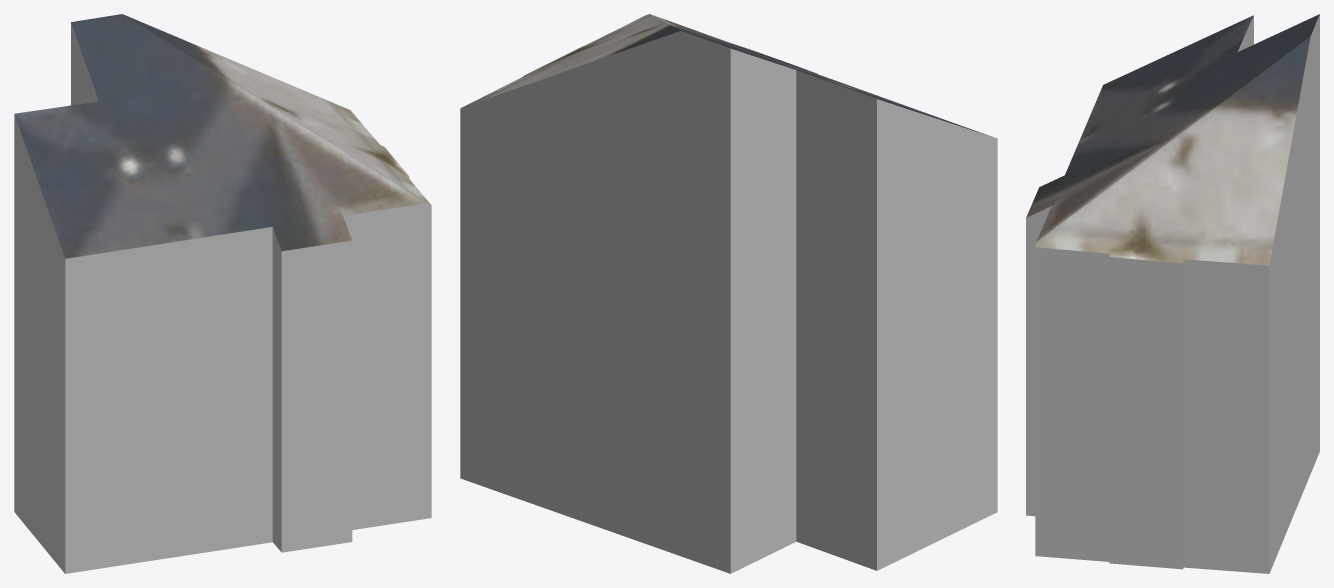
File: DEBW_0010007TxaE.gltf
3 renders of one model, left to right at view 1: azimuth 30°, elevation 25°; view 2: azimuth 150°, elevation 25°; view 3: azimuth 270°, elevation 25°, orthographic. The views are drawn at different scales.
Parts seen in each view (by area): view 1: Z_UP; view 2: Z_UP; view 3: Z_UP.
Part boxes in pixels (<box>): Z_UP: <box>14,14,431,573</box>; Z_UP: <box>460,14,997,573</box>; Z_UP: <box>1026,14,1319,573</box>.
Size of the model in its own units: 19.44 by 22.31 by 13.57.
Materials: 2 (1 with a texture image).
